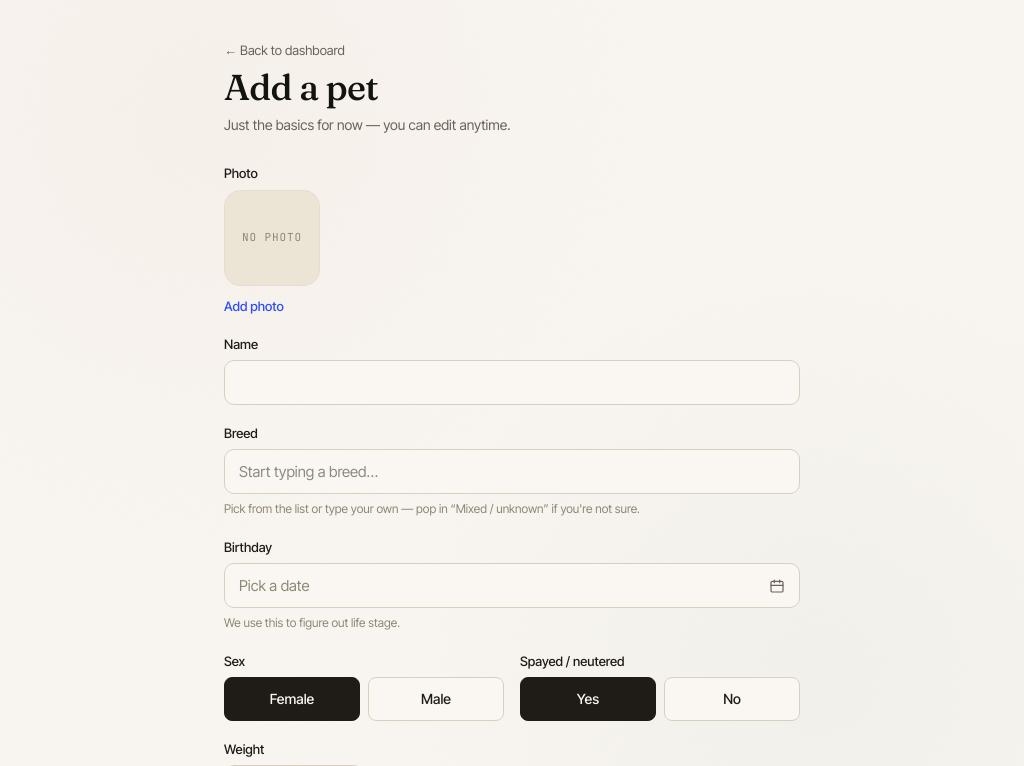
Test case: PetForm — create mode › shows the required-field error for an empty name
Click the button named "birthday" at (274, 586), box 224,563 -> 800,608
(page scrolled)
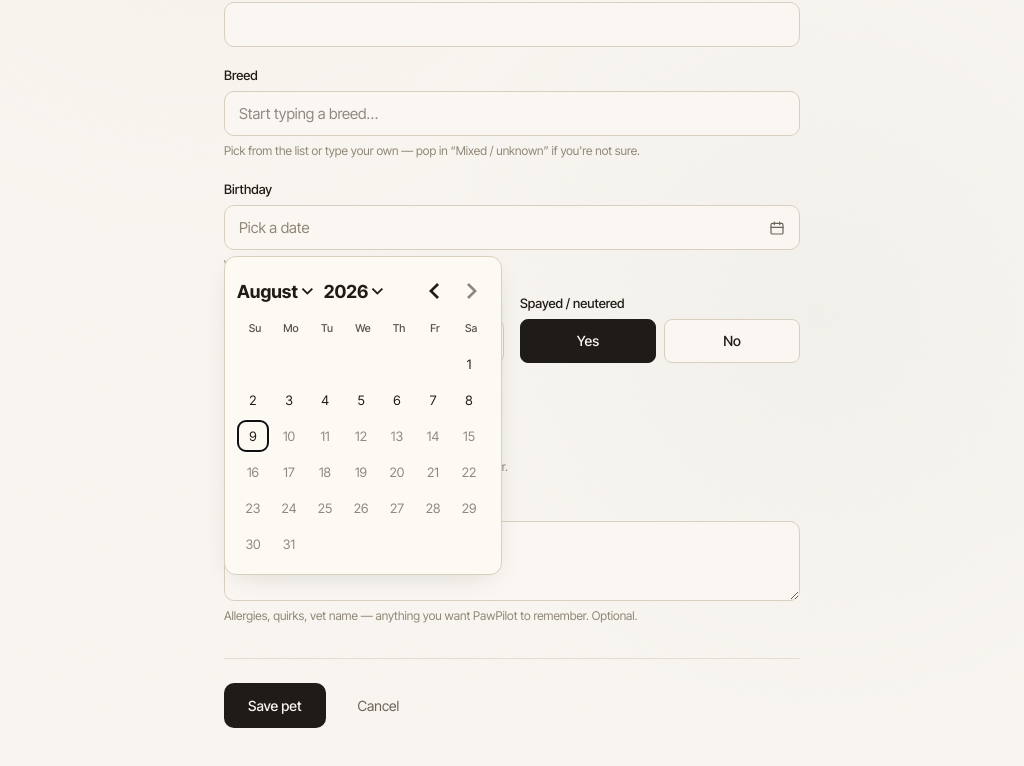
Click the button "1" at (469, 364), box 453,348 -> 485,380
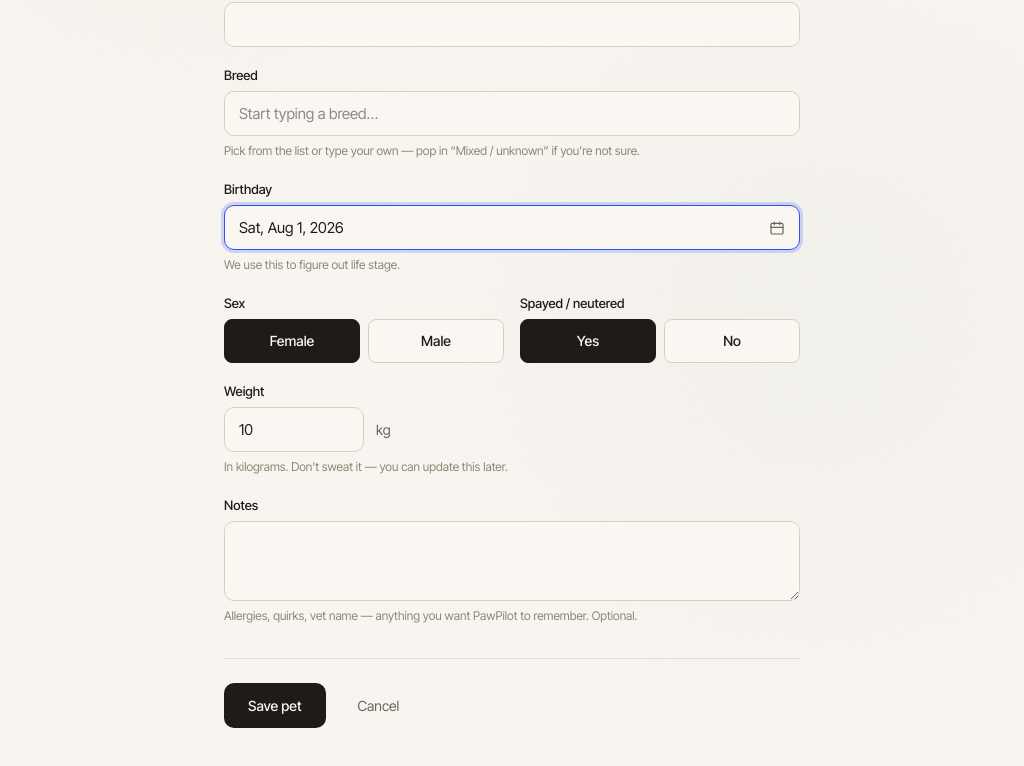
Click the button "Save pet" at (275, 705), box 224,683 -> 326,728
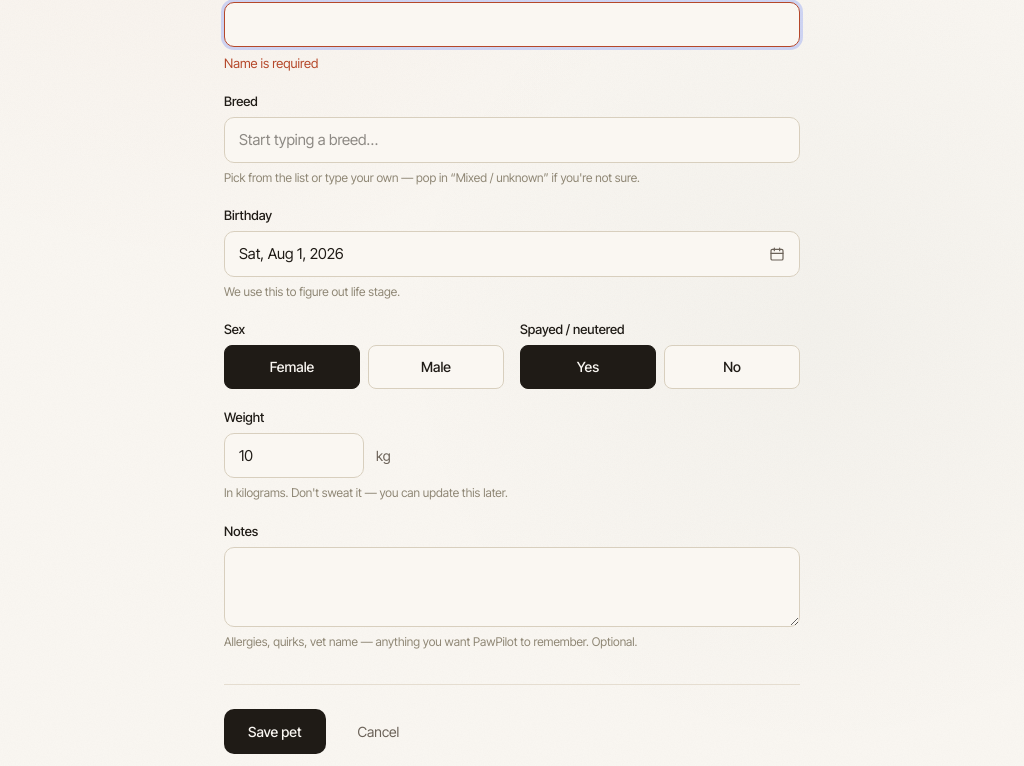
Expected: the text "Name is required" is shown, 224,55 -> 318,71
